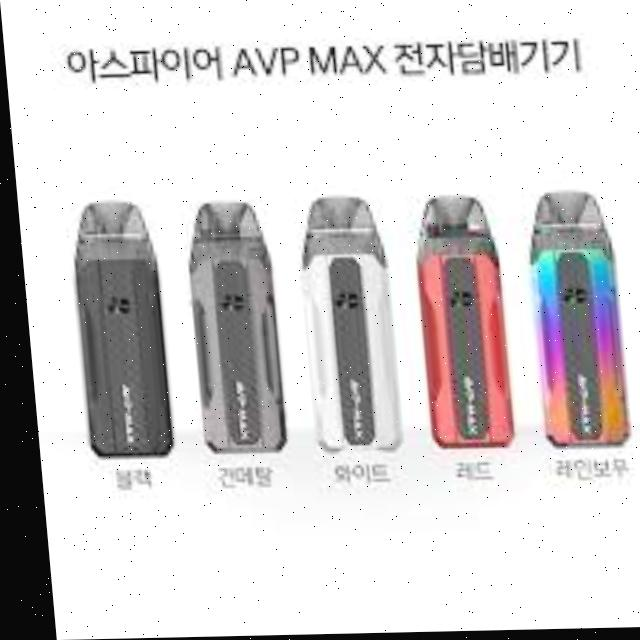vape: (177, 199, 281, 458), (519, 196, 625, 449), (64, 202, 168, 459), (293, 197, 396, 454), (406, 199, 507, 452)
